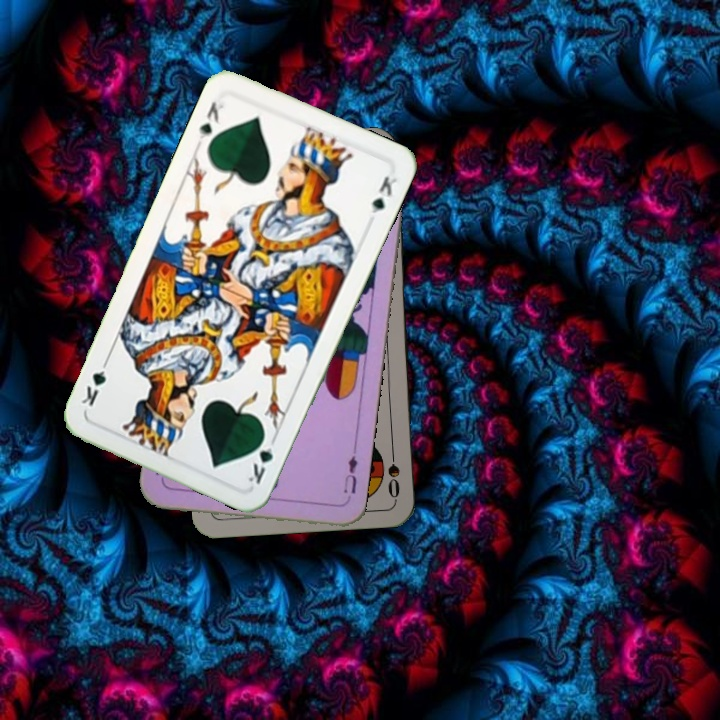EU: (339, 451, 360, 506)
GK: (244, 429, 279, 487), (192, 97, 227, 143)
SO: (384, 442, 403, 501)
